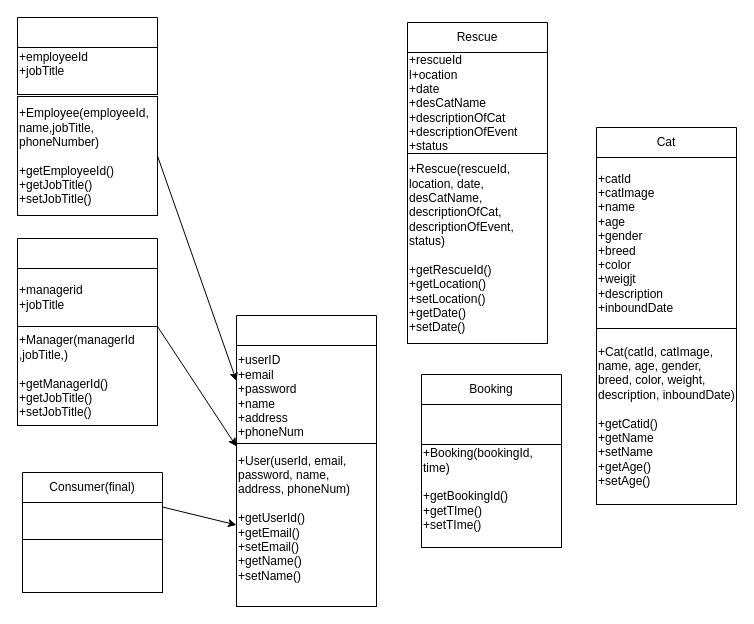
This 754x624 diagram has some shape labels left out. Here are the shapes that lost their labels. From the top down, the box of each, then its label:
(16, 16, 158, 94): Employee(final)
(16, 238, 158, 326): manager(final)
(236, 314, 376, 446): User(absract)
(420, 404, 562, 444): +bookingID +time
(22, 502, 162, 542): +consumerId
(22, 538, 162, 592): +consumer(consumerId, ) +getconsumerid()
